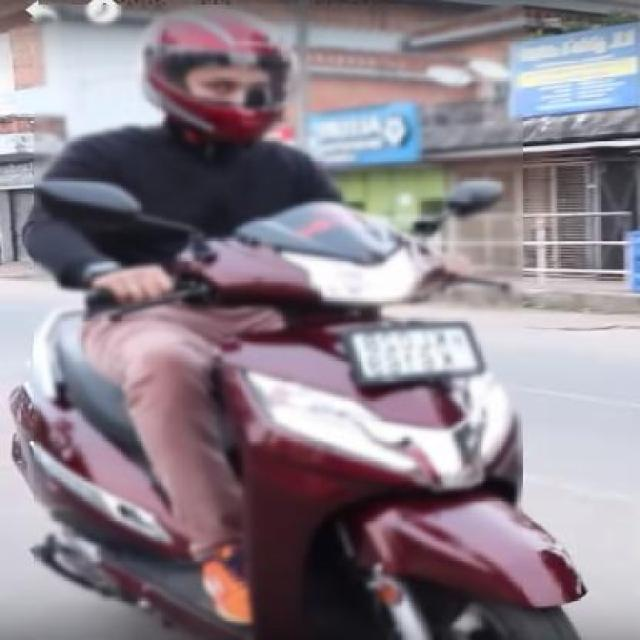helmet: (123, 10, 319, 151)
motorcycle: (0, 0, 603, 640)
